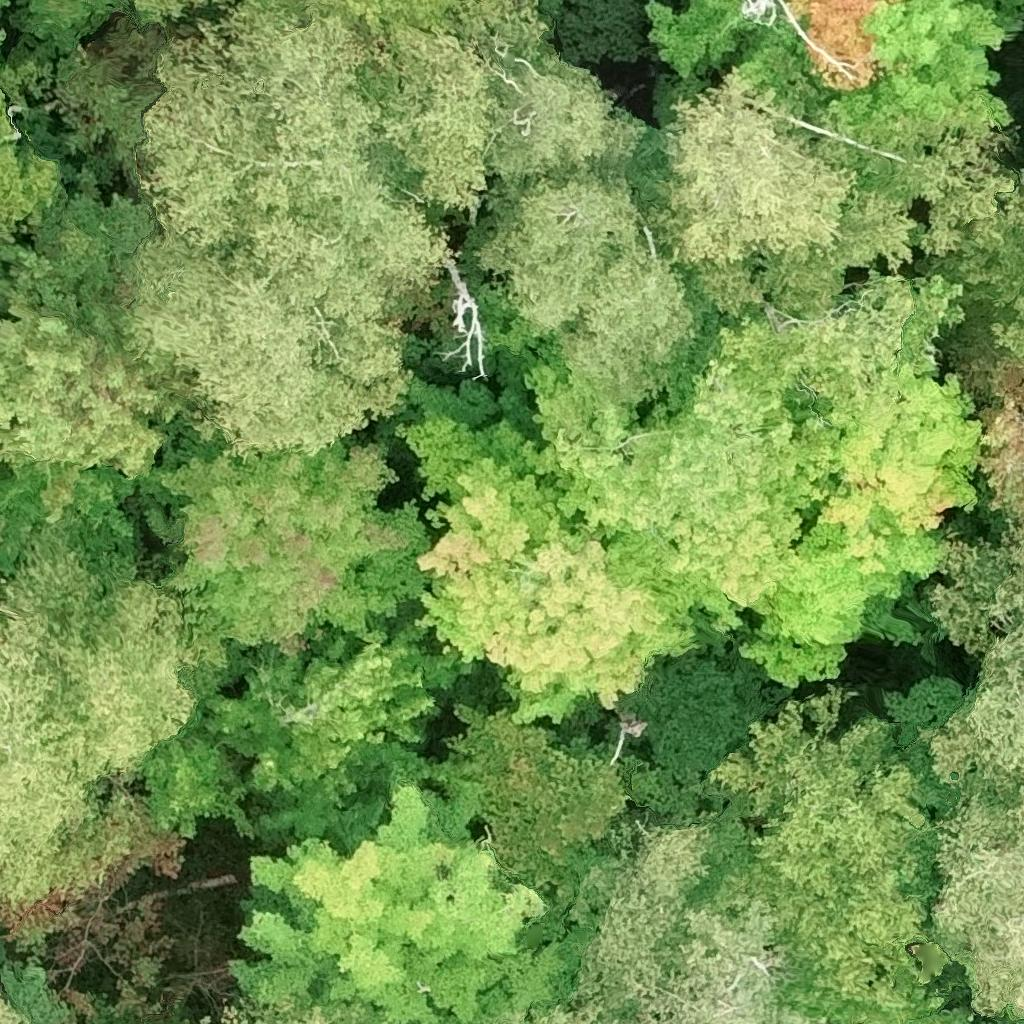crown: (400, 421, 740, 721), (229, 762, 570, 1023), (136, 0, 448, 282), (526, 354, 843, 612), (476, 56, 696, 420), (713, 686, 960, 1008), (753, 369, 983, 689), (124, 209, 413, 455), (0, 536, 194, 902), (645, 70, 919, 326), (155, 444, 430, 666), (567, 769, 758, 1023), (195, 637, 455, 805), (362, 0, 548, 224), (882, 518, 1023, 801), (645, 0, 1008, 107), (443, 710, 628, 904), (0, 300, 181, 477), (717, 276, 964, 404), (627, 902, 832, 1023), (930, 787, 1023, 1021), (0, 456, 135, 588), (902, 130, 1023, 260), (139, 717, 258, 837), (786, 0, 908, 89), (980, 291, 1023, 523), (737, 0, 856, 82), (0, 95, 54, 230), (327, 0, 467, 37), (223, 996, 387, 1023), (486, 996, 621, 1023), (125, 0, 207, 26), (0, 994, 30, 1023), (986, 1012, 1023, 1023), (0, 29, 10, 52), (198, 1018, 212, 1023), (914, 232, 921, 235), (1022, 455, 1023, 472)
